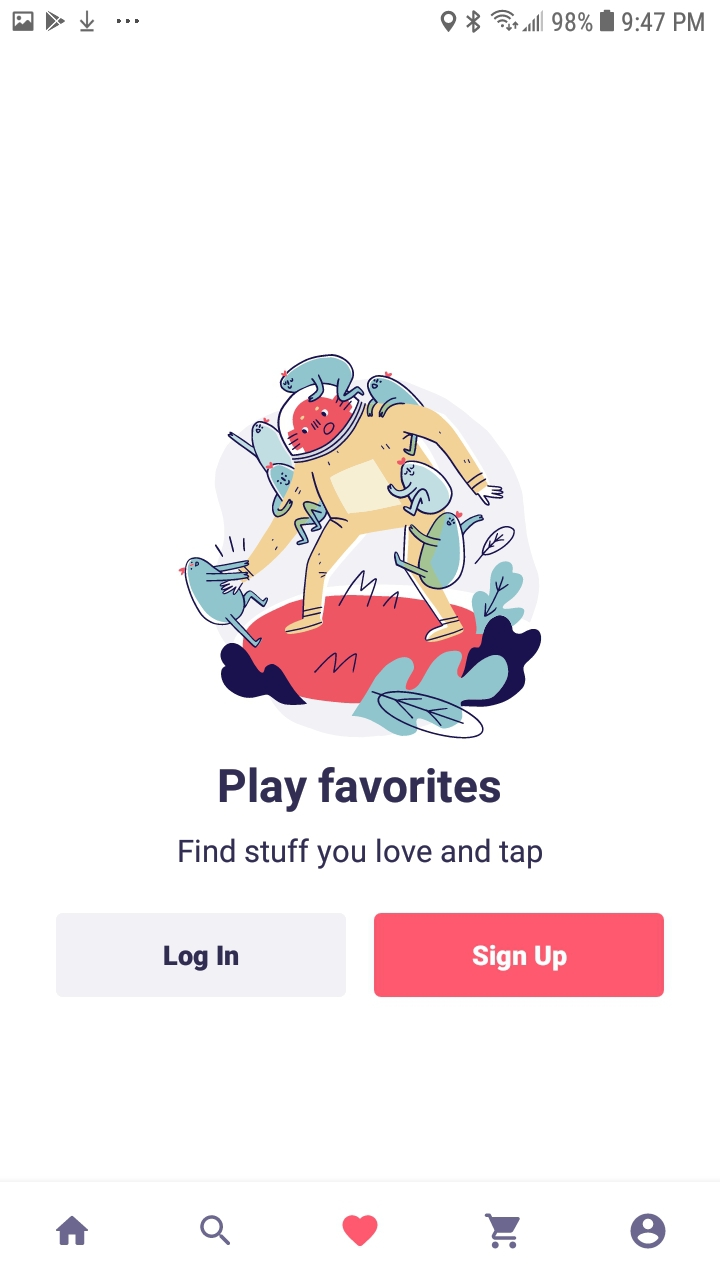Icon: (485, 1212, 521, 1249), (630, 1213, 666, 1249), (342, 1214, 379, 1247), (55, 1215, 90, 1246), (200, 1214, 231, 1246)
Image: (179, 353, 543, 741)
Text: (219, 766, 501, 813), (179, 837, 543, 870)
TextButton: (374, 913, 665, 998), (57, 913, 347, 998)
UpperTaskBar: (1, 1, 720, 35)
